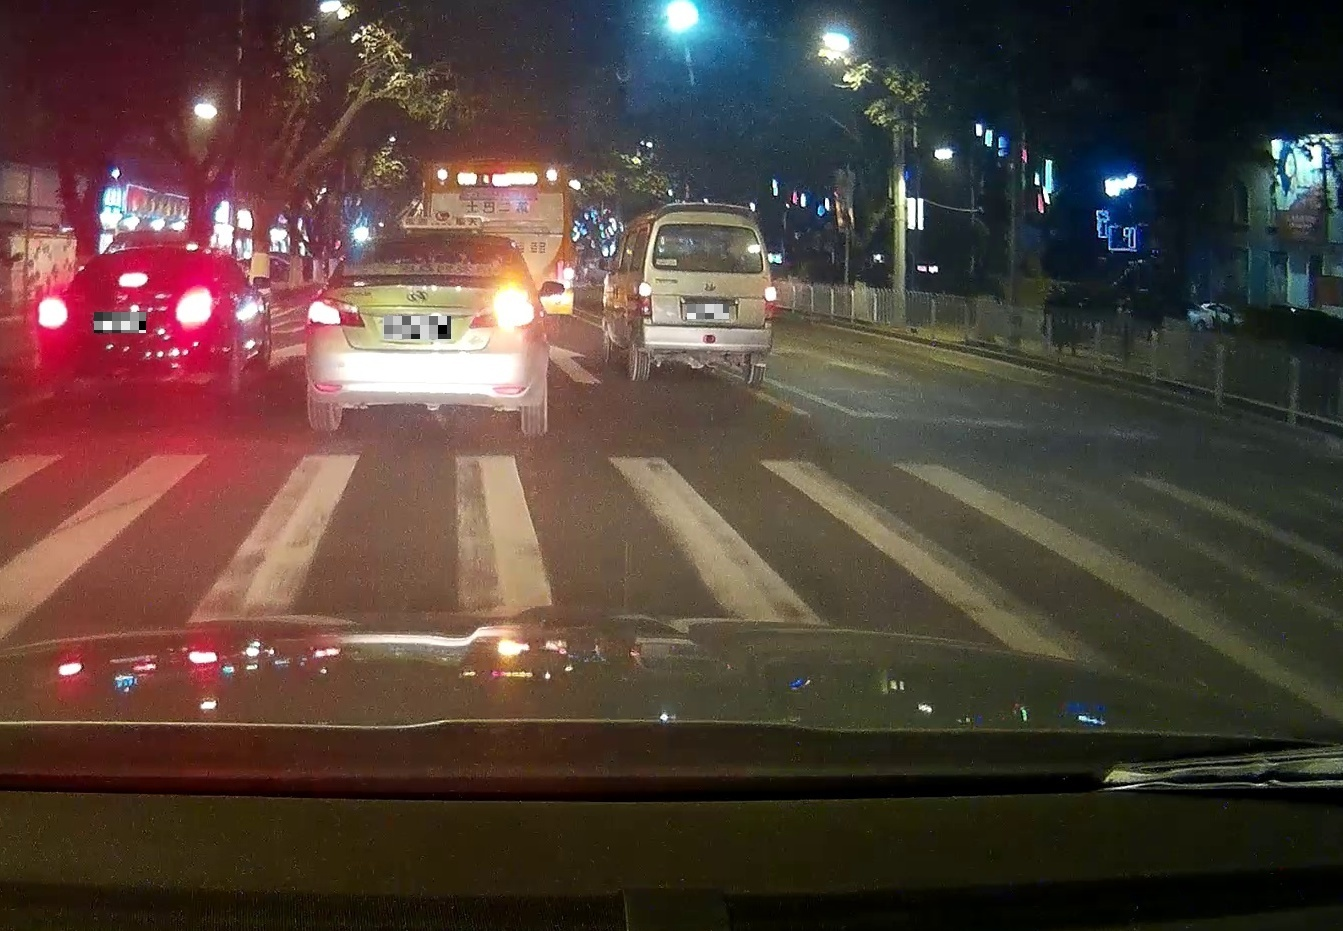L_light: (306, 295, 365, 327), (37, 296, 68, 329), (639, 282, 652, 317)
R_light: (469, 284, 538, 329), (175, 286, 214, 328), (764, 286, 776, 318)
T_light: (117, 272, 149, 287), (417, 241, 451, 248), (700, 223, 722, 230)
night-no: (34, 245, 216, 402), (639, 202, 776, 385)
night-right: (306, 230, 547, 433)
plate_1: (94, 312, 146, 333)
plate_2: (384, 316, 451, 339)
plate_3: (687, 304, 729, 318)
